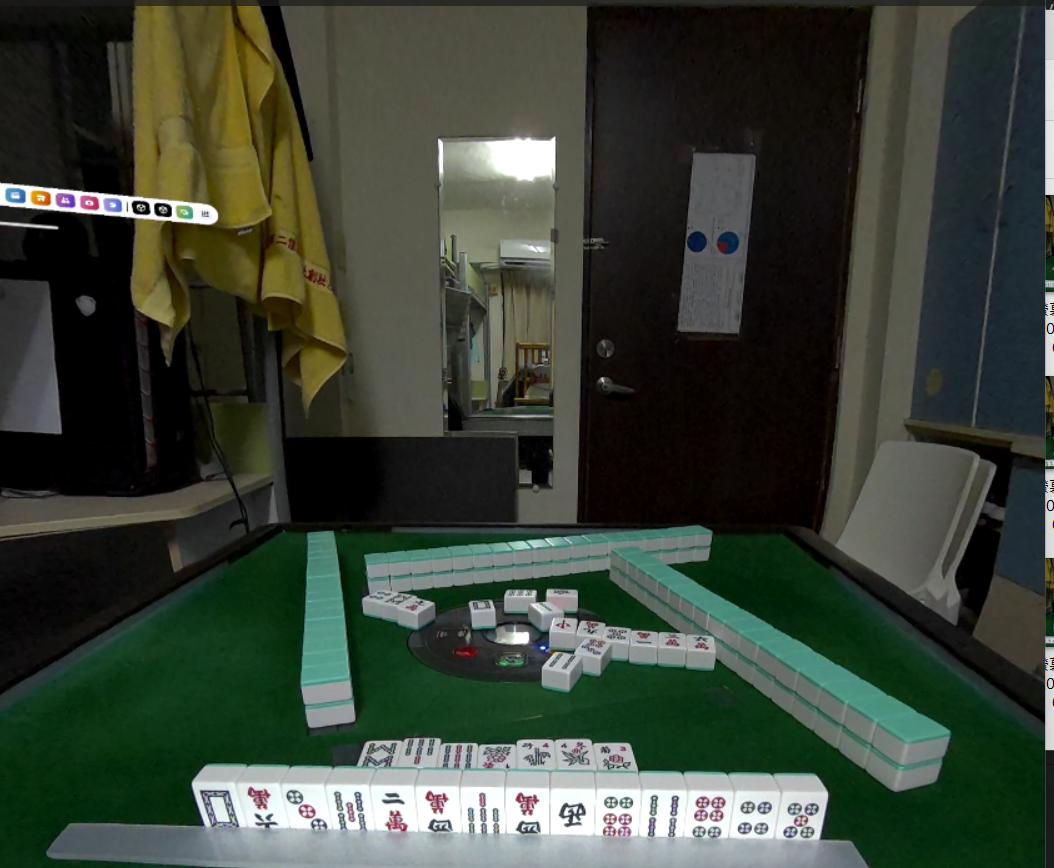mahjong: (780, 792, 828, 848), (684, 793, 734, 846), (281, 785, 332, 835), (413, 783, 461, 835), (504, 790, 550, 841), (641, 786, 683, 841), (463, 782, 503, 838), (596, 789, 638, 841), (551, 789, 596, 837), (241, 787, 285, 833), (193, 785, 241, 827), (737, 790, 772, 845), (373, 787, 414, 833), (329, 786, 369, 833)
